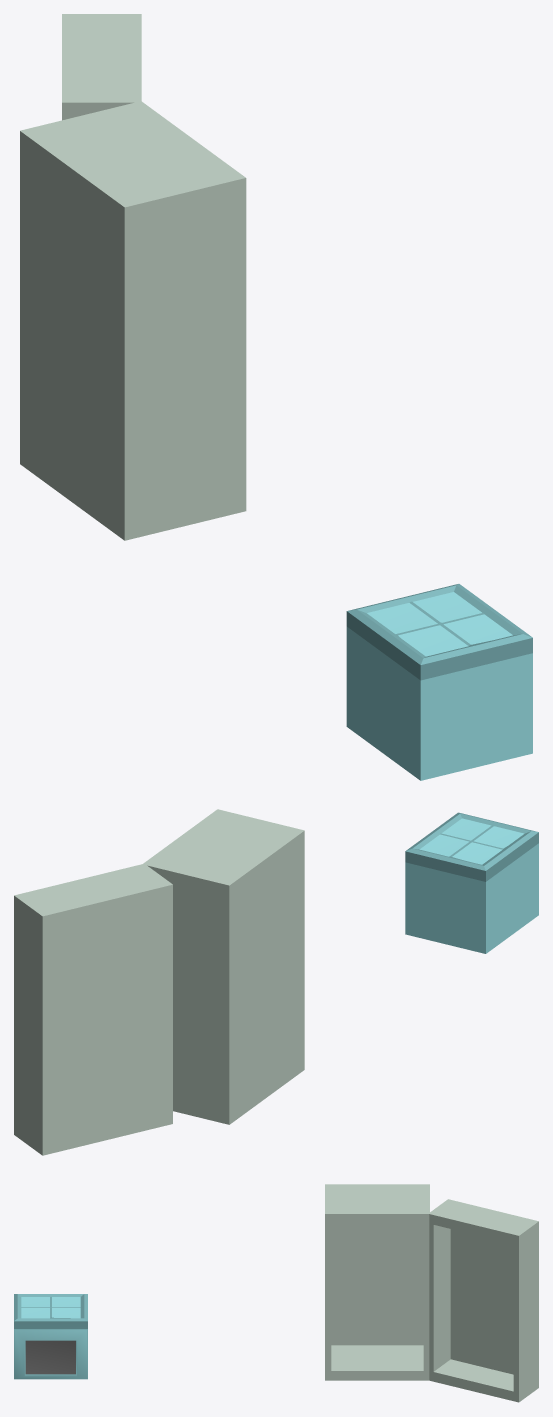
File: kitchenFBX_Fix_03.fbx
3 views of the same model, one above another, from view 1: azimuth 30°, elevation 25°; view 2: azimuth 150°, elevation 25°; view 3: azimuth 270°, elevation 25° (orthographic). The views are drawn at different scales.
Parts seen in each view (by area): view 1: pCube20, pCube9, pCube22; view 2: pCube22, pCube20, pCube9; view 3: pCube20, pCube22, pCube9.
Boxes of the visible parts, x1,y1,x2,y2 form: pCube20: [20, 101, 246, 540]; pCube9: [346, 584, 532, 780]; pCube22: [62, 14, 141, 120]; pCube22: [14, 863, 172, 1155]; pCube20: [143, 809, 304, 1124]; pCube9: [405, 812, 538, 953]; pCube20: [325, 1184, 429, 1380]; pCube22: [428, 1199, 538, 1402]; pCube9: [14, 1294, 87, 1379].
Bounding box in the file's own units: 13.96 × 20.19 × 56.16.
